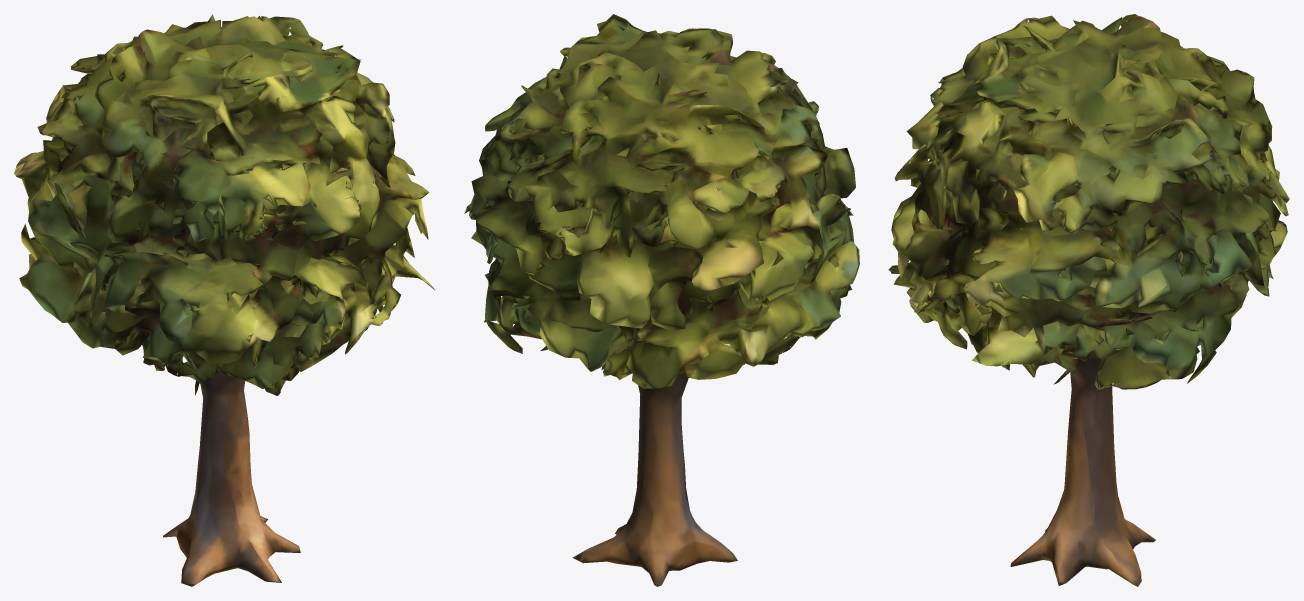
Rendered from AI_RoundedPecanTree.fbx.
The picture shows the model from 3 angles, left to right: view 1: azimuth 30°, elevation 25°; view 2: azimuth 150°, elevation 25°; view 3: azimuth 270°, elevation 25°; orthographic projection. The views are drawn at different scales.
Parts seen in each view (by area): view 1: Mesh_0; view 2: Mesh_0; view 3: Mesh_0.
Part boxes in pixels (x1=…): Mesh_0: x1=14, y1=14, x2=435, y2=586; Mesh_0: x1=464, y1=14, x2=859, y2=586; Mesh_0: x1=888, y1=14, x2=1289, y2=586.
Size of the model in its own units: 141 by 199 by 139.
1 material, 1 textured.
